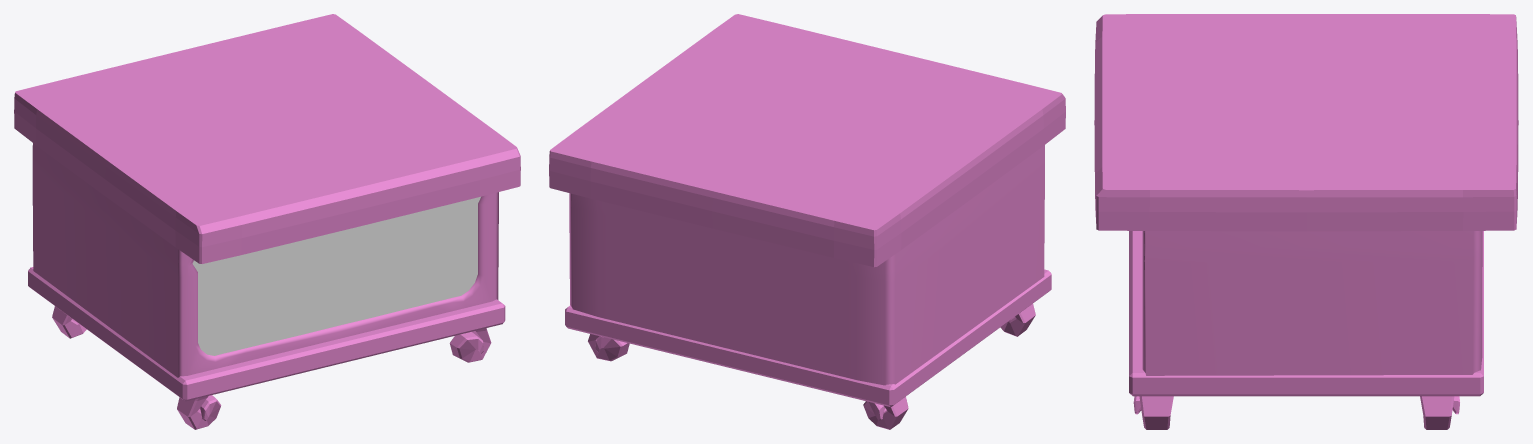
Rendered from ENV_HAU_SHOWCASEBOTTOM_MODEL.fbx.
3 renders of one model, left to right at view 1: azimuth 30°, elevation 25°; view 2: azimuth 150°, elevation 25°; view 3: azimuth 270°, elevation 25°, orthographic. The views are drawn at different scales.
Visible parts, largest first — view 1: ENV_HAU_SHOWCASEBOTTOM_MODEL; view 2: ENV_HAU_SHOWCASEBOTTOM_MODEL; view 3: ENV_HAU_SHOWCASEBOTTOM_MODEL.
Boxes of the visible parts, x1=… form: ENV_HAU_SHOWCASEBOTTOM_MODEL: x1=14, y1=14, x2=520, y2=429; ENV_HAU_SHOWCASEBOTTOM_MODEL: x1=549, y1=14, x2=1065, y2=429; ENV_HAU_SHOWCASEBOTTOM_MODEL: x1=1094, y1=14, x2=1518, y2=429.
Bounding box in the file's own units: 100 × 65.38 × 101.
